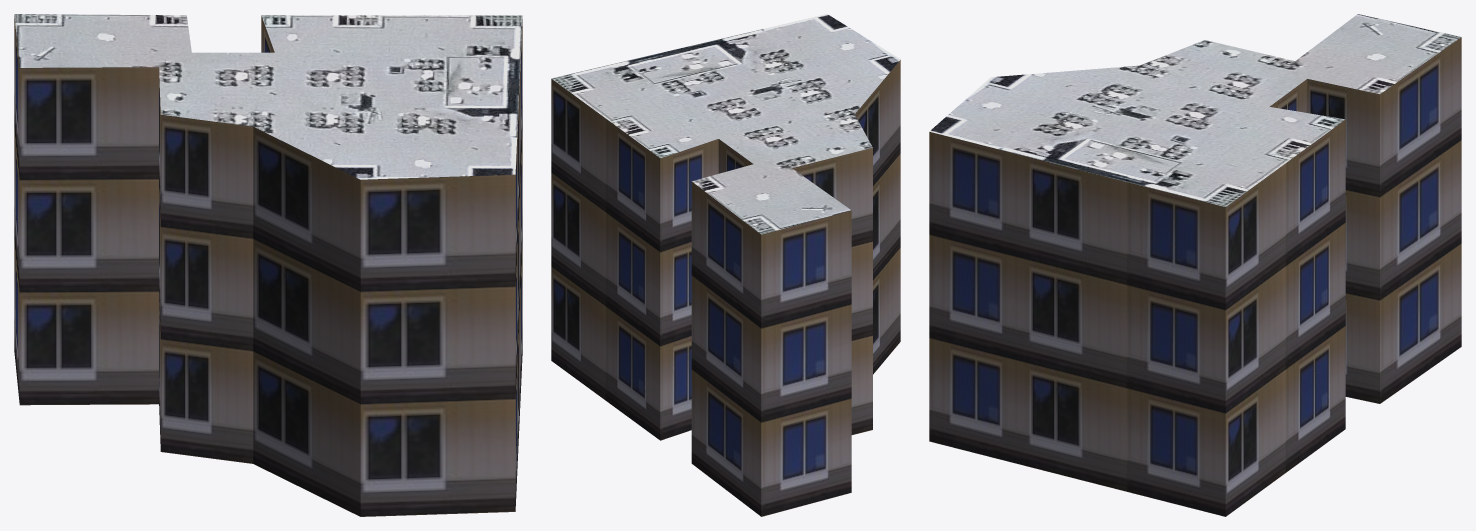
Rendered from ResTex__2843.fbx.
3 views of the same model, side by side, from view 1: azimuth 30°, elevation 25°; view 2: azimuth 150°, elevation 25°; view 3: azimuth 270°, elevation 25° (orthographic). The views are drawn at different scales.
Parts seen in each view (by area): view 1: CityEngineMaterial_5_m, CityEngineMaterial_4_m; view 2: CityEngineMaterial_5_m, CityEngineMaterial_4_m; view 3: CityEngineMaterial_5_m, CityEngineMaterial_4_m.
Boxes of the visible parts, x1,y1,x2,y2 form: CityEngineMaterial_5_m: (14, 15, 522, 516); CityEngineMaterial_4_m: (14, 14, 522, 179); CityEngineMaterial_5_m: (551, 60, 900, 516); CityEngineMaterial_4_m: (551, 14, 900, 234); CityEngineMaterial_5_m: (929, 37, 1461, 516); CityEngineMaterial_4_m: (929, 14, 1461, 206).
Bounding box in the file's own units: 12.04 × 9 × 14.02.
Materials: 2 (2 with a texture image).
